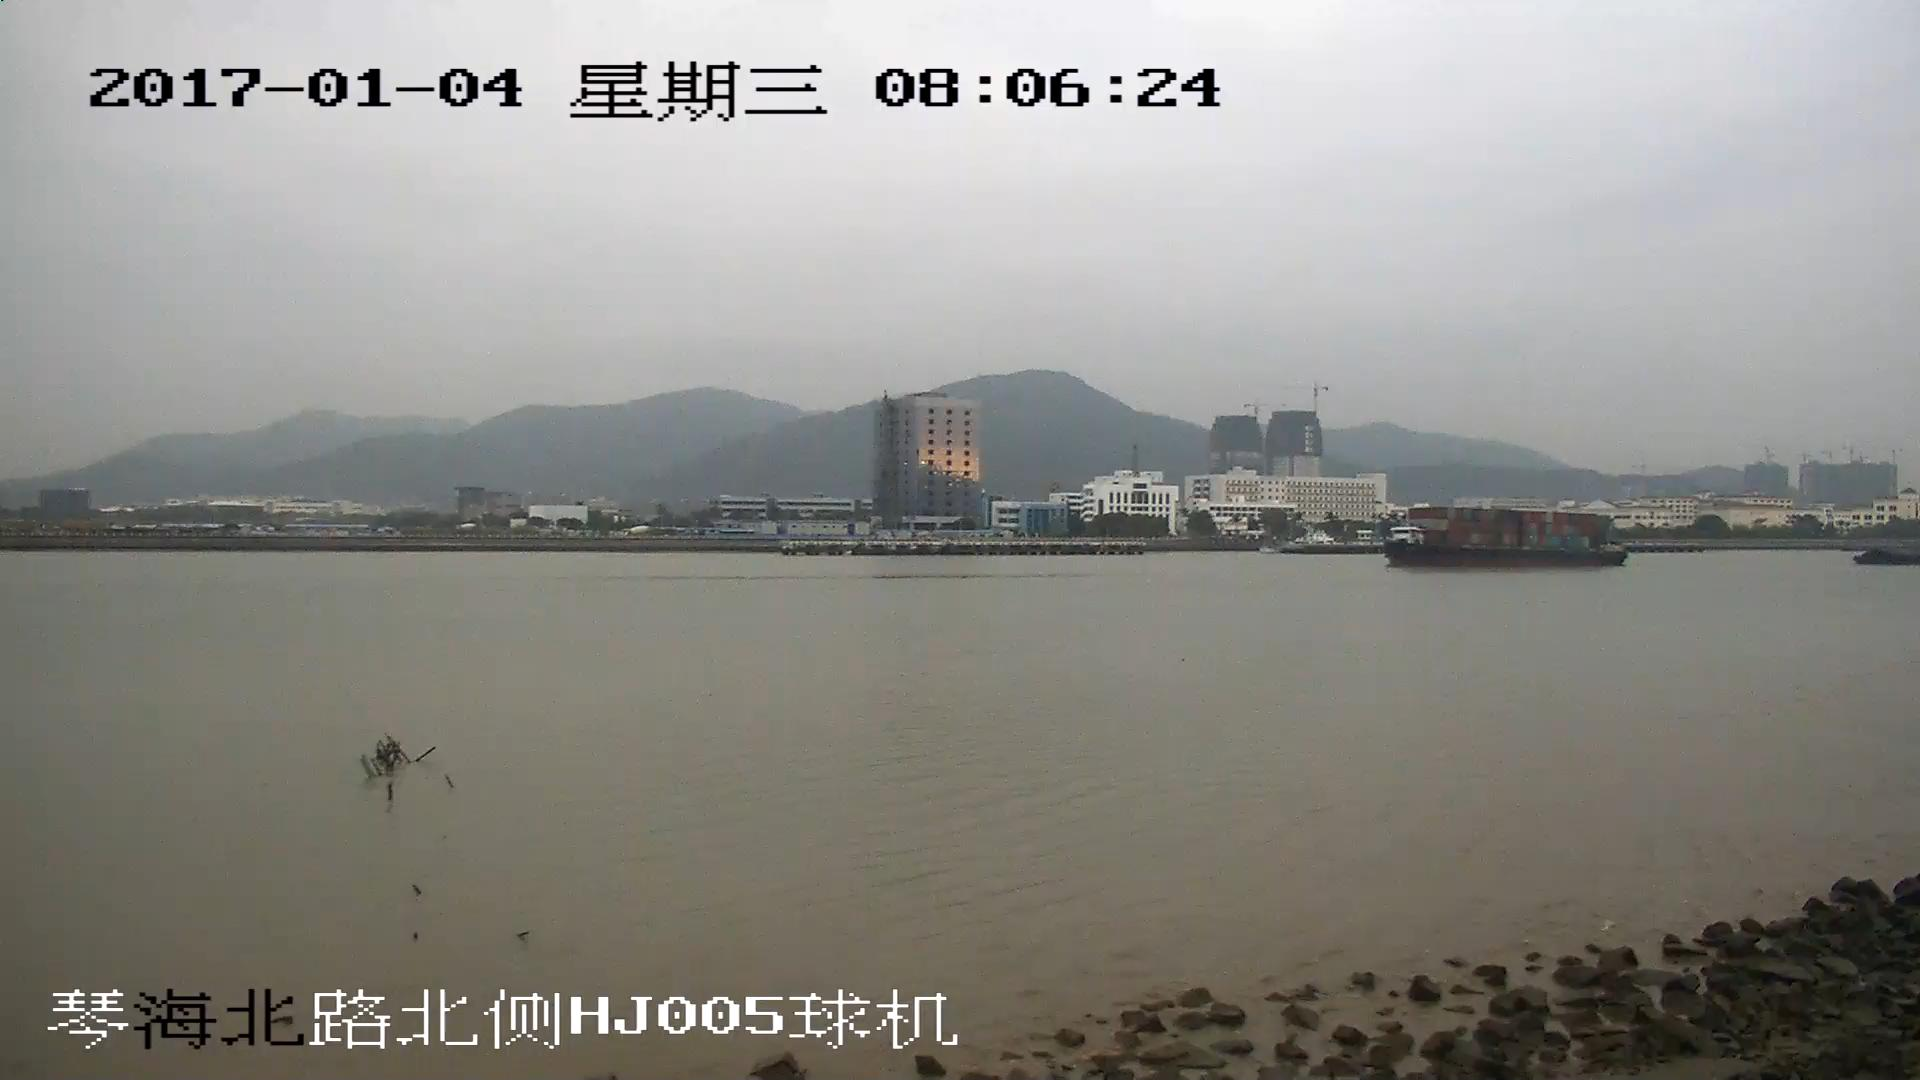container ship: (1387, 507, 1624, 570)
